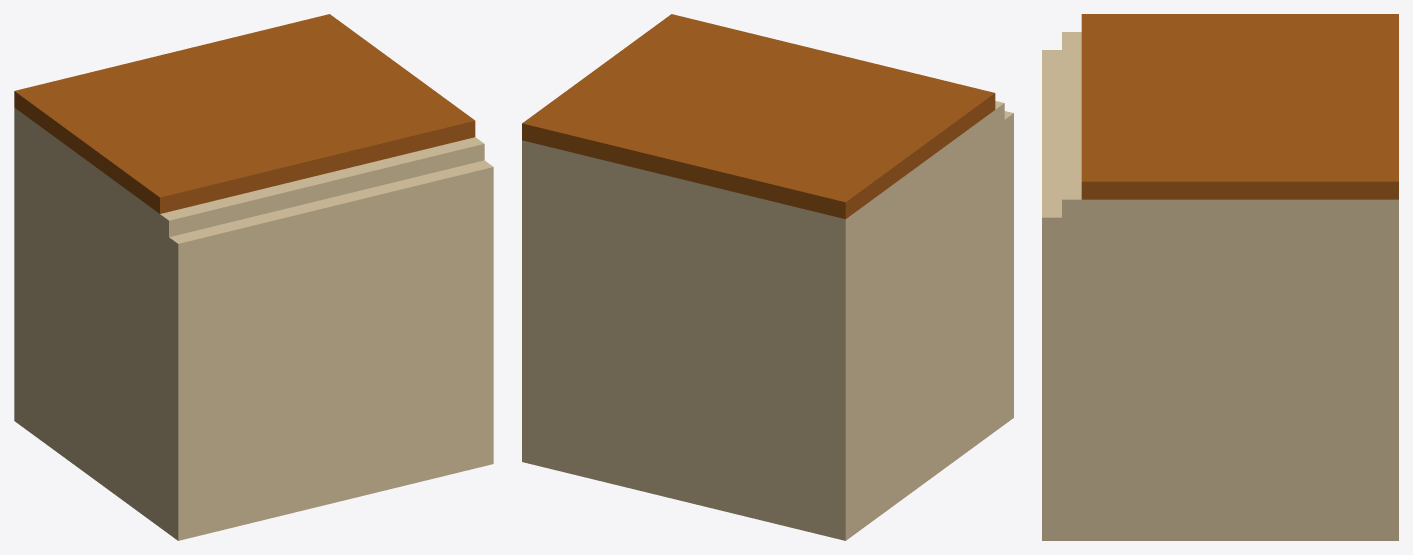
Rendered from Kitchen_TableV5.obj.
3 renders of one model, left to right at view 1: azimuth 30°, elevation 25°; view 2: azimuth 150°, elevation 25°; view 3: azimuth 270°, elevation 25°, orthographic. The views are drawn at different scales.
Bounding box in the file's own units: 2 × 2 × 1.8.
1 material, 1 textured.
